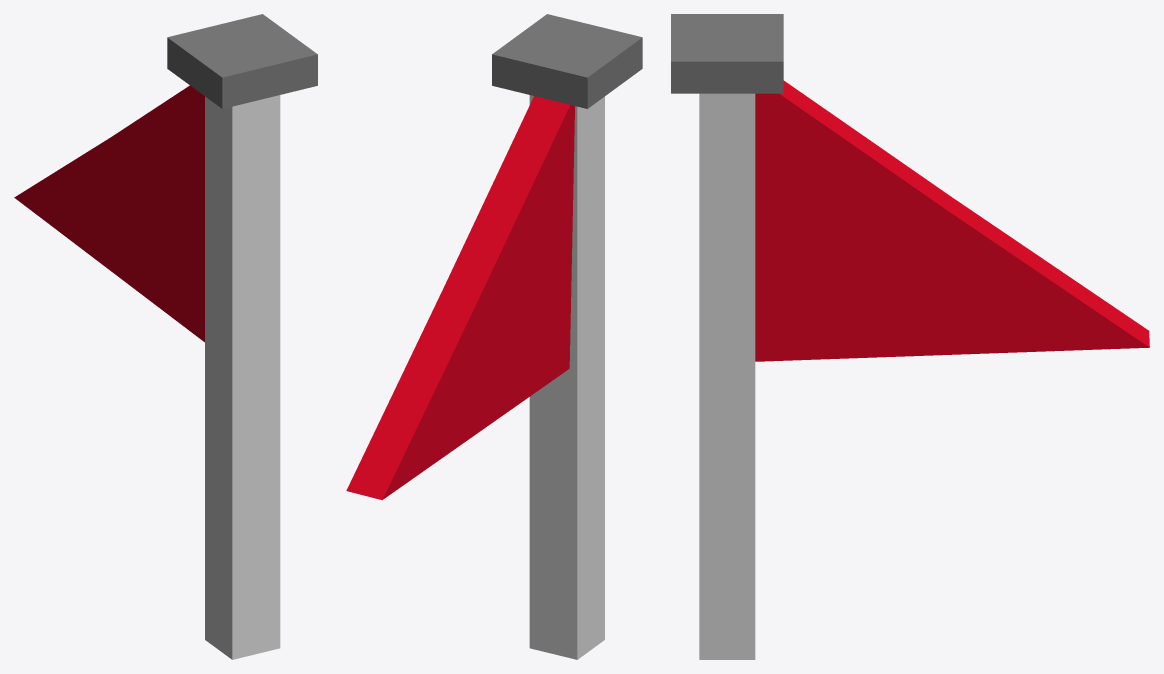
File: flag.fbx
3 renders of one model, left to right at view 1: azimuth 30°, elevation 25°; view 2: azimuth 150°, elevation 25°; view 3: azimuth 270°, elevation 25°, orthographic. The views are drawn at different scales.
Parts seen in each view (by area): view 1: Cube, Plane, Cube.001; view 2: Plane, Cube, Cube.001; view 3: Plane, Cube, Cube.001.
Boxes of the visible parts, x1,y1,x2,y2 form: Cube: (205, 95, 280, 659); Plane: (14, 85, 204, 342); Cube.001: (167, 14, 317, 108); Plane: (346, 96, 574, 500); Cube: (529, 95, 604, 659); Cube.001: (492, 14, 642, 108); Plane: (755, 80, 1149, 361); Cube: (699, 93, 755, 659); Cube.001: (671, 14, 783, 93).
Bounding box in the file's own units: 200 × 1197 × 851.
